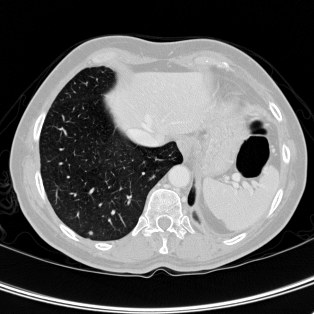nodule: (89, 231, 93, 235)
